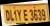character: (16, 9, 22, 21), (9, 9, 14, 21), (23, 9, 28, 21), (5, 10, 10, 21), (13, 10, 18, 21), (29, 9, 34, 20), (33, 9, 38, 20), (37, 9, 42, 20), (41, 9, 46, 20)
